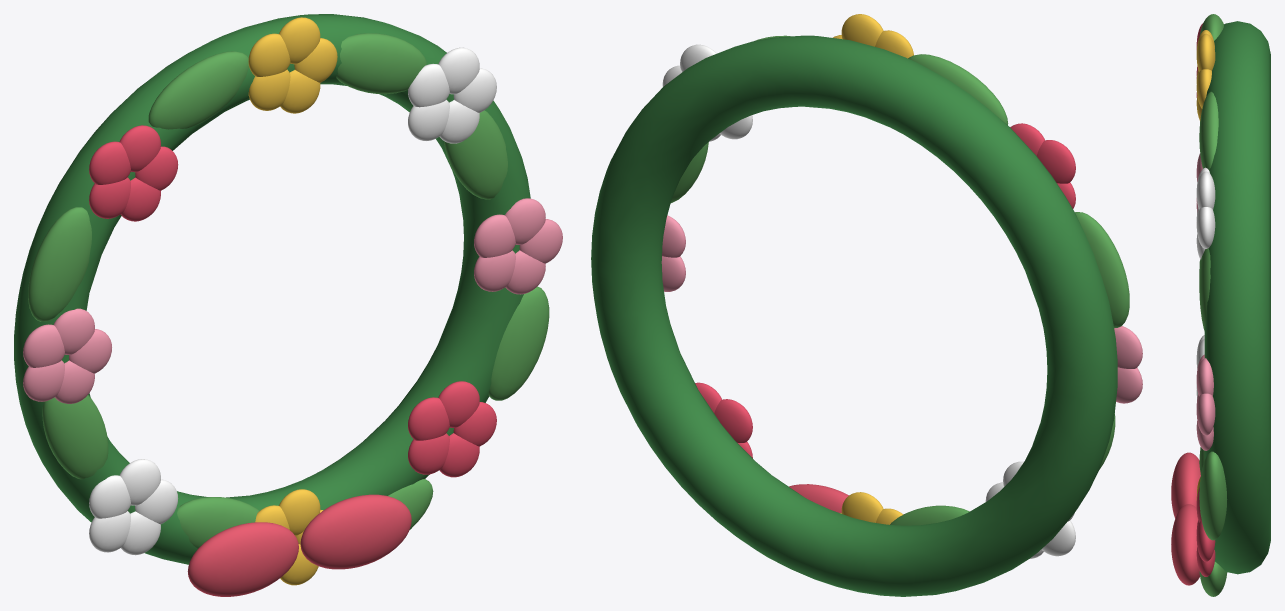
The model's file is deco_corona_flores.glb.
3 views of the same model, side by side, from view 1: azimuth 30°, elevation 25°; view 2: azimuth 150°, elevation 25°; view 3: azimuth 270°, elevation 25° (orthographic). The views are drawn at different scales.
Visible parts, largest first — view 1: aro corona.001, moño corona 1.001, moño corona -1.001, hoja corona 7.001, hoja corona 5.001, hoja corona 3.001, hoja corona 9.001, hoja corona 15.001, hoja corona 1.001, hoja corona 11.001, pétalo corona 42.001, pétalo corona 62.001 (+36 smaller); view 2: aro corona.001, hoja corona 7.001, hoja corona 5.001, pétalo corona 62.001, pétalo corona 142.001, hoja corona 11.001, pétalo corona 41.001, pétalo corona 82.001, pétalo corona 121.001, moño corona 1.001, pétalo corona 83.001, pétalo corona 02.001 (+3 smaller); view 3: aro corona.001, hoja corona 15.001, moño corona 1.001, moño corona -1.001, hoja corona 3.001, hoja corona 1.001, pétalo corona 00.001, pétalo corona 20.001, pétalo corona 21.001, pétalo corona 41.001, hoja corona 13.001, pétalo corona 01.001 (+5 smaller).
Boxes of the visible parts, box(x1,y1,x2,y2) form: aro corona.001: box(14, 14, 530, 564); moño corona 1.001: box(300, 494, 411, 569); moño corona -1.001: box(187, 522, 298, 596); hoja corona 7.001: box(28, 207, 91, 321); hoja corona 5.001: box(148, 51, 248, 129); hoja corona 3.001: box(336, 33, 426, 94); hoja corona 9.001: box(42, 395, 108, 479); hoja corona 15.001: box(488, 286, 549, 400); hoja corona 1.001: box(444, 110, 507, 199); hoja corona 11.001: box(177, 497, 259, 548); pétalo corona 42.001: box(248, 33, 290, 76); pétalo corona 62.001: box(89, 141, 130, 184); aro corona.001: box(591, 35, 1117, 596); hoja corona 7.001: box(1075, 212, 1129, 327); hoja corona 5.001: box(908, 54, 1008, 124); pétalo corona 62.001: box(1036, 140, 1075, 183); pétalo corona 142.001: box(714, 399, 752, 442); hoja corona 11.001: box(890, 505, 969, 525); pétalo corona 41.001: box(841, 14, 883, 46); pétalo corona 82.001: box(1114, 326, 1142, 368); pétalo corona 121.001: box(841, 492, 883, 522); moño corona 1.001: box(789, 484, 848, 512); pétalo corona 83.001: box(1116, 367, 1142, 403); pétalo corona 02.001: box(662, 215, 685, 257); aro corona.001: box(1204, 21, 1270, 574); hoja corona 15.001: box(1199, 451, 1227, 540); moño corona 1.001: box(1171, 504, 1199, 585); moño corona -1.001: box(1171, 452, 1200, 518); hoja corona 3.001: box(1199, 91, 1218, 169); hoja corona 1.001: box(1199, 248, 1210, 330); pétalo corona 00.001: box(1196, 393, 1215, 435); pétalo corona 20.001: box(1196, 207, 1215, 248); pétalo corona 21.001: box(1196, 171, 1215, 209); pétalo corona 41.001: box(1196, 33, 1215, 71); hoja corona 13.001: box(1199, 562, 1227, 596); pétalo corona 01.001: box(1196, 358, 1213, 396).
Bounding box in the file's own units: 0.4781 × 0.4802 × 0.0817.
